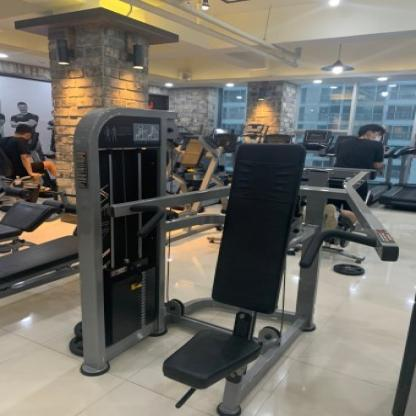shoulder press machine: (57, 100, 416, 416)
